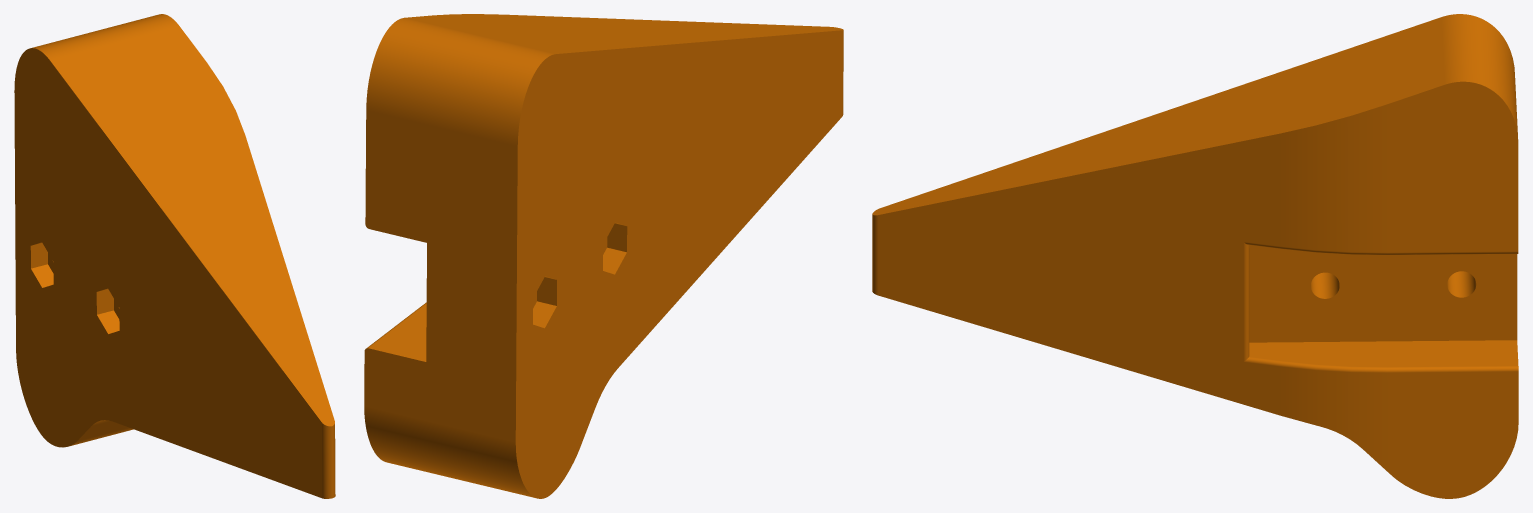
File: left_finger.obj
The picture shows the model from 3 angles, left to right: view 1: azimuth 30°, elevation 25°; view 2: azimuth 150°, elevation 25°; view 3: azimuth 270°, elevation 25°; orthographic projection. The views are drawn at different scales.
Bounding box in the file's own units: 0.0197 × 0.0539 × 0.0758.
